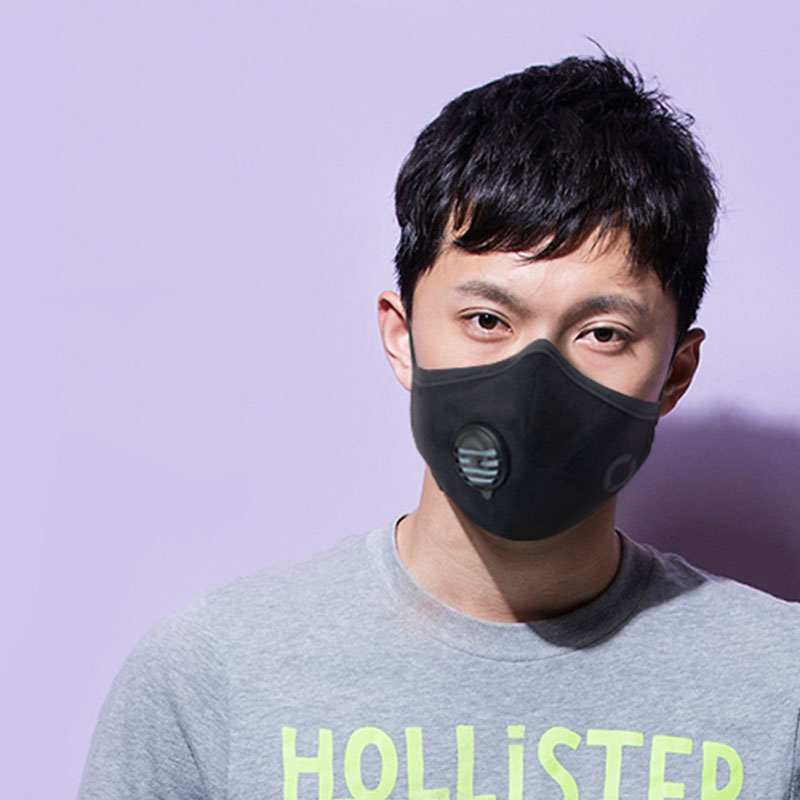face_mask: (415, 183, 672, 528)
